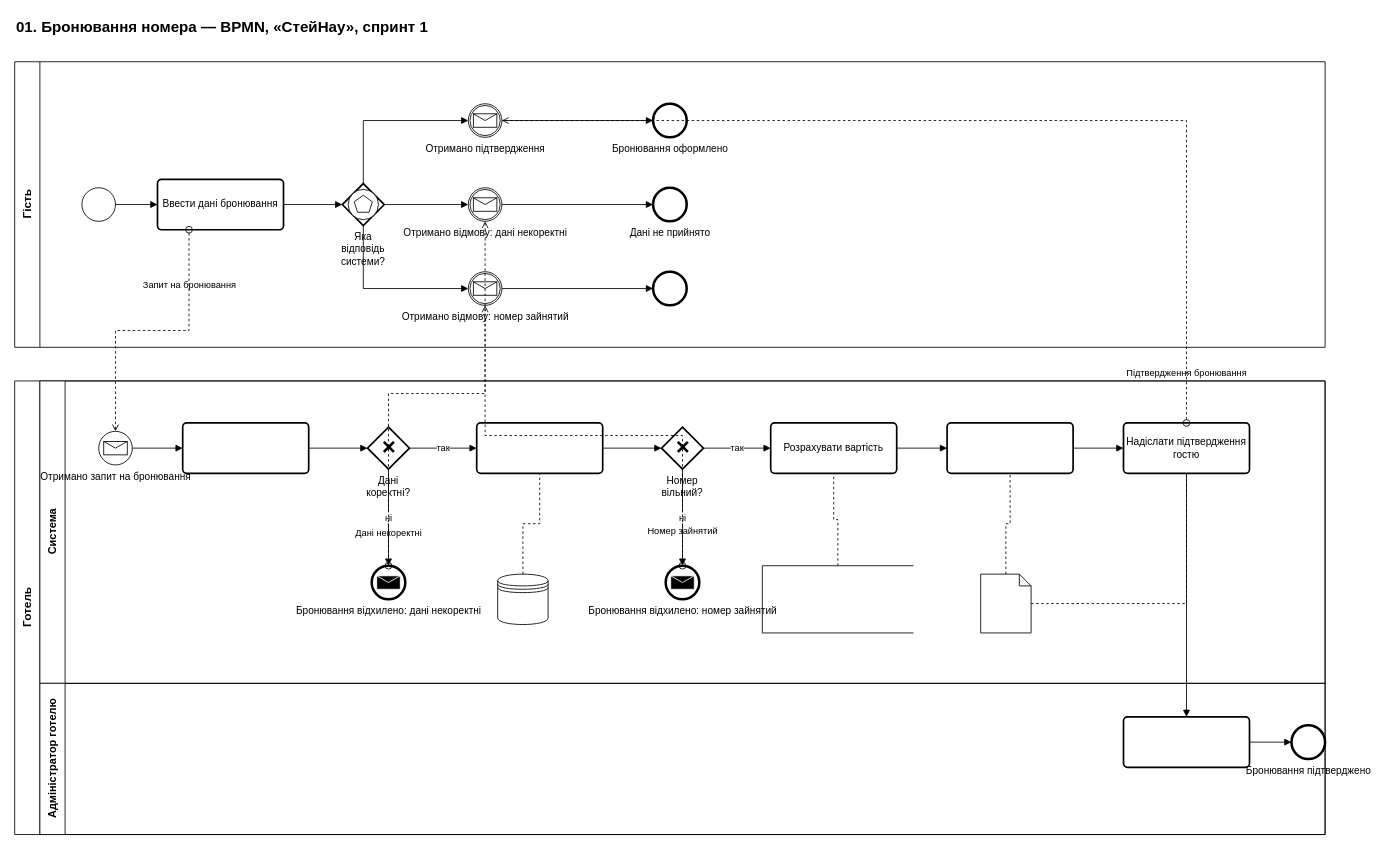
Image size: 1385x849. Some labels were removed from this diagram. Each missing label, with the centre of its shape:
Бронювання: (x=1005, y=603)
Вартість рахується за сезонними коефіцієнтами — замовлення на нову функцію: (x=837, y=599)
Номер недоступний: (x=669, y=288)
Номер обрано для бронювання: (x=98, y=204)
Номери: (x=522, y=599)
Перевірити доступність номера: (x=539, y=448)
Перевірити формат полів: (x=245, y=448)
Переглянути бронювання в панелі: (x=1186, y=742)
Створити бронювання: (x=1010, y=448)
